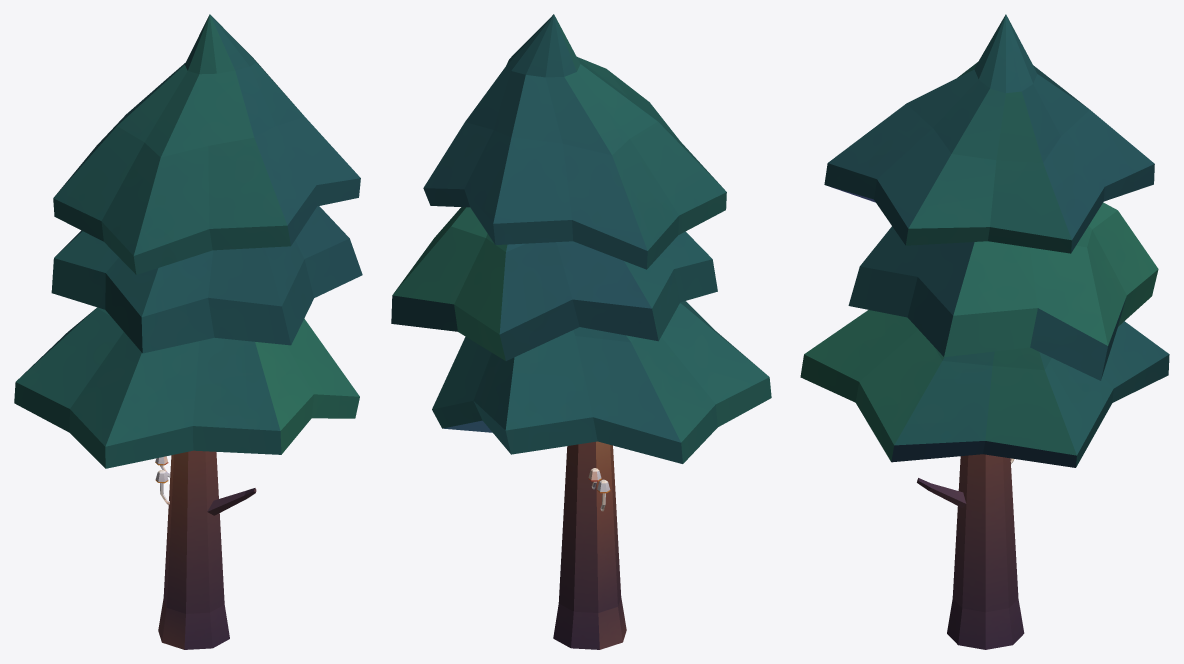
The model's file is Tree_Pine07.fbx.
The picture shows the model from 3 angles, left to right: view 1: azimuth 30°, elevation 25°; view 2: azimuth 150°, elevation 25°; view 3: azimuth 270°, elevation 25°; orthographic projection. The views are drawn at different scales.
Parts seen in each view (by area): view 1: PineTreeLeaves, PineTreeTrunk; view 2: PineTreeLeaves, PineTreeTrunk; view 3: PineTreeLeaves, PineTreeTrunk.
Part boxes in pixels (bbox=[...]): PineTreeLeaves: bbox=[14, 14, 362, 468]; PineTreeTrunk: bbox=[158, 450, 256, 649]; PineTreeLeaves: bbox=[391, 14, 771, 463]; PineTreeTrunk: bbox=[553, 441, 626, 649]; PineTreeLeaves: bbox=[800, 14, 1169, 467]; PineTreeTrunk: bbox=[917, 454, 1024, 649].
Bounding box in the file's own units: 178 × 363 × 192.
